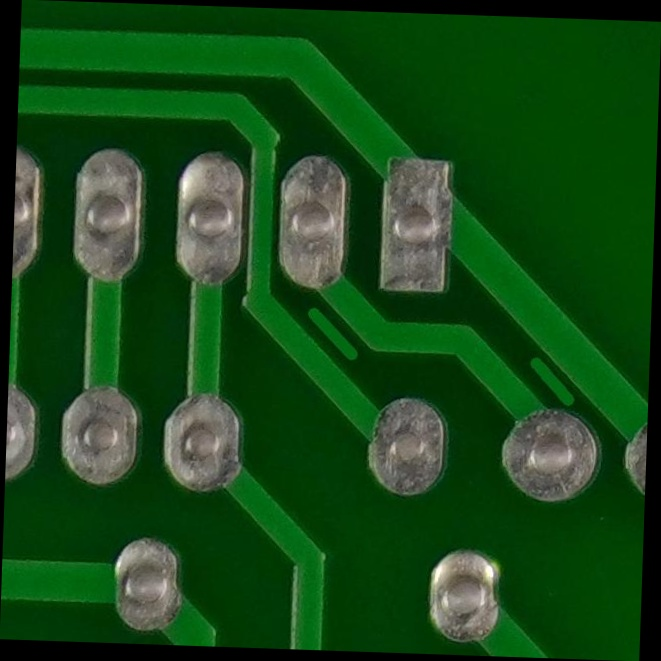spurious_copper: (295, 294, 367, 368)
